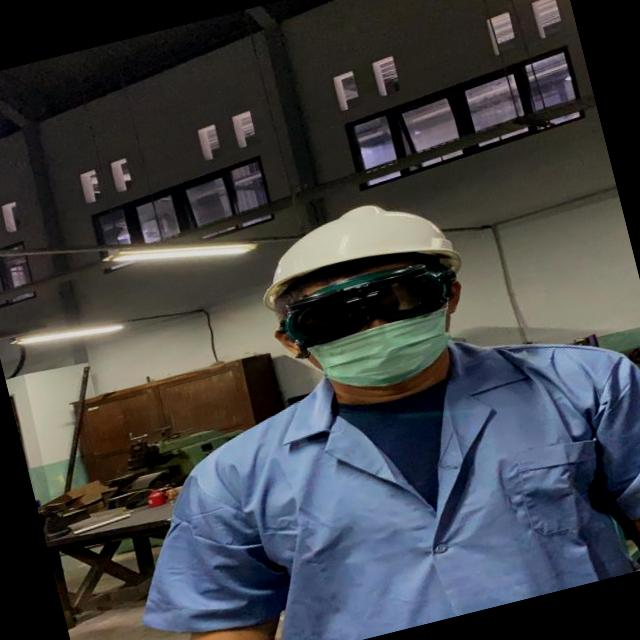no_vest: (133, 267, 640, 640)
